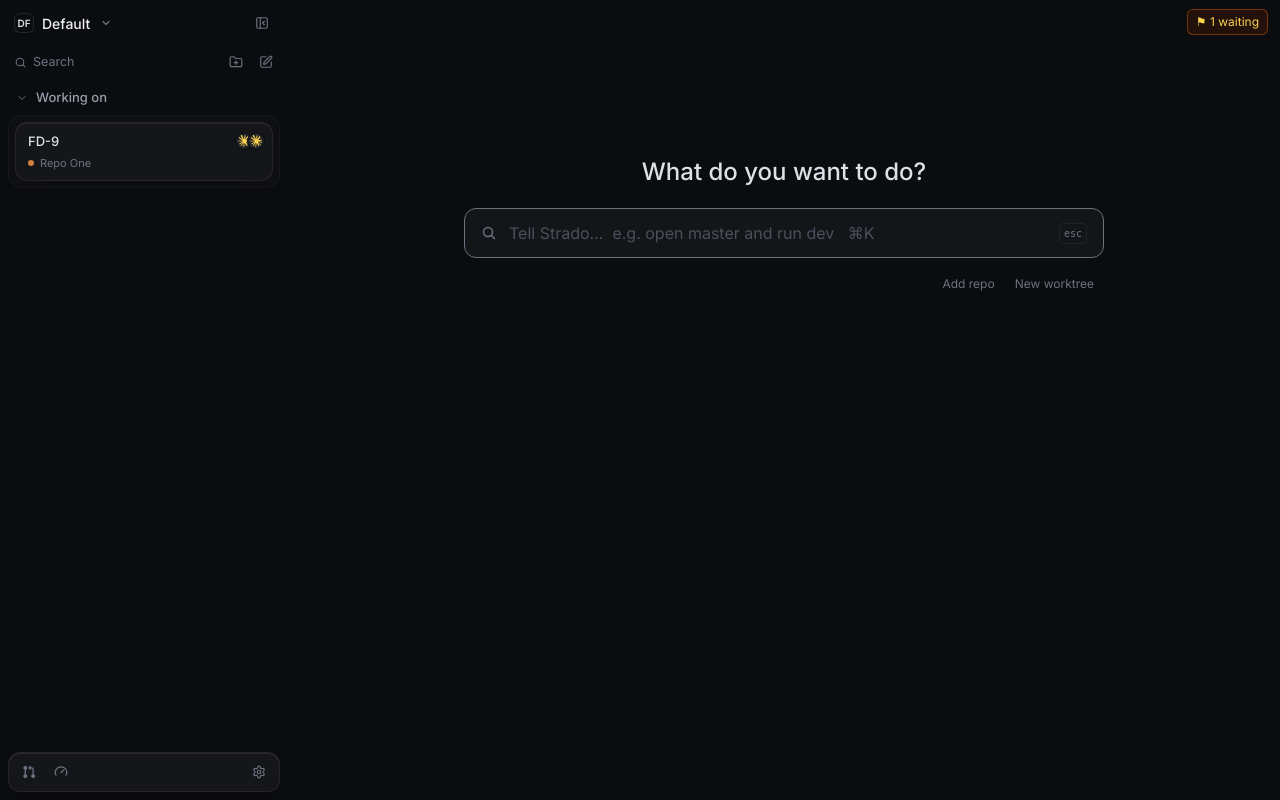
Test: Dashboard inline hub › home: typing "add repo <path>" in the big box asks the model, whose nav.addRepo opens the Add repo dialog on that path
This screenshot has width=1280, height=800.
Expected: the heading "What do you want to do?" is shown, [642,157,926,186]
In the text box named "Global search": {"x": 778, "y": 233} [509,209,1047,257], type "add repo /code/x"
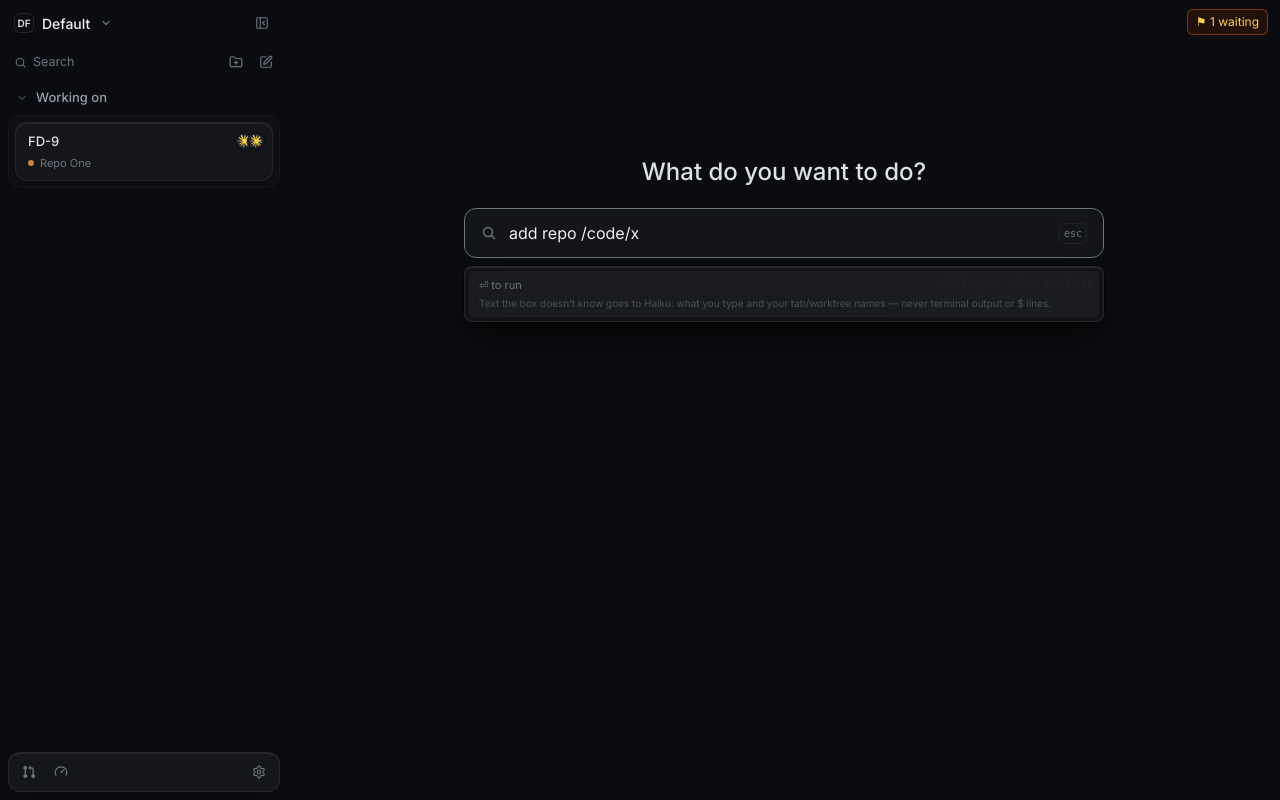
Press Enter in the text box named "Global search", box [509,209,1047,257]
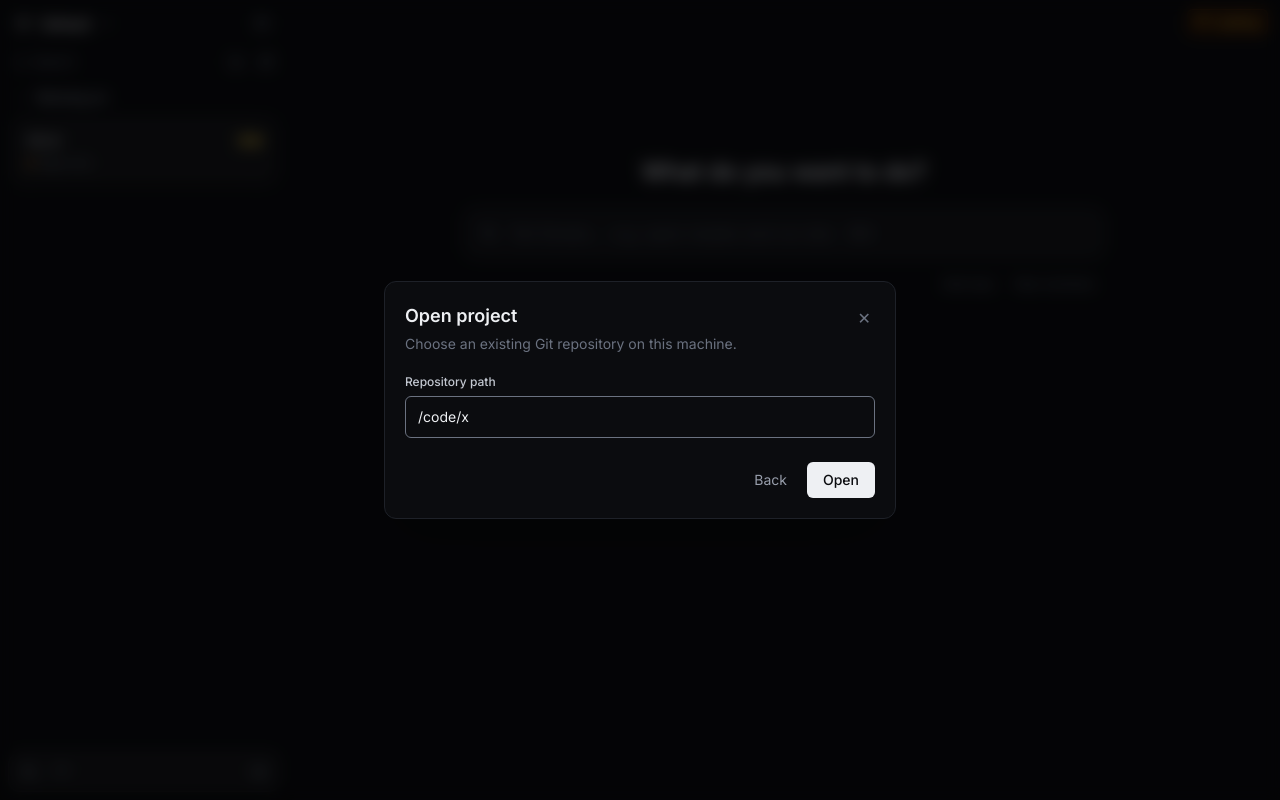
Now the field labelled "Repository path" holds "/code/x", box [405,396,875,438]
